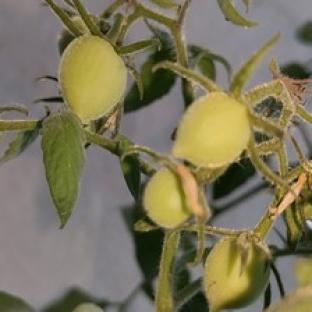Tomato: (173, 92, 250, 168), (59, 35, 126, 122), (204, 239, 270, 311), (144, 169, 192, 228)
